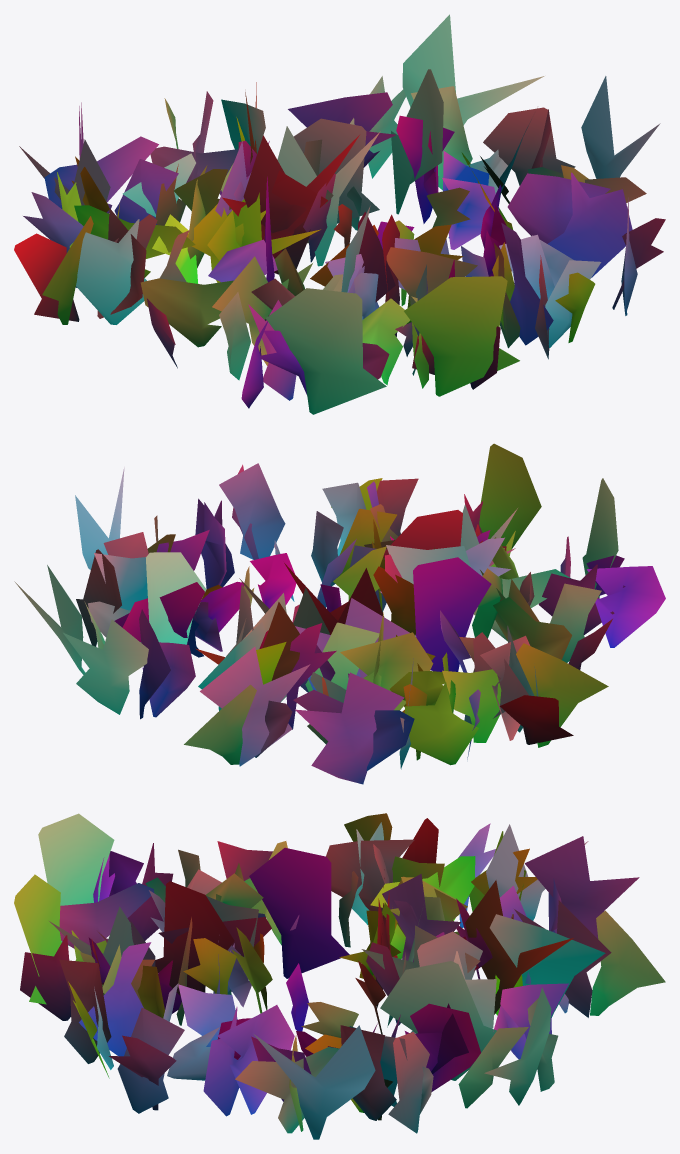
File: Grass_Clumps_rbojr_High_rbojr_VarC_LOD0.fbx
The picture shows the model from 3 angles, top to bottom: view 1: azimuth 30°, elevation 25°; view 2: azimuth 150°, elevation 25°; view 3: azimuth 270°, elevation 25°; orthographic projection. The views are drawn at different scales.
Parts seen in each view (by area): view 1: _9a4d_VarC_LOD0; view 2: _9a4d_VarC_LOD0; view 3: _9a4d_VarC_LOD0.
Boxes of the visible parts, x1,y1,x2,y2 form: _9a4d_VarC_LOD0: (14,14,665,414); _9a4d_VarC_LOD0: (14,443,665,784); _9a4d_VarC_LOD0: (14,813,665,1139).
Bounding box in the file's own units: 84.74 × 21.01 × 84.94.
